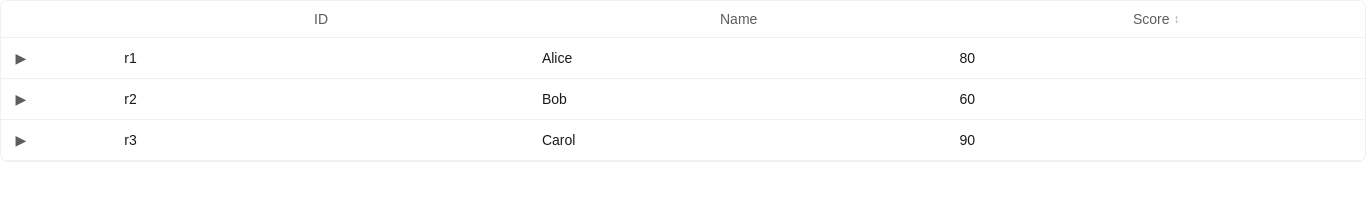
DataTable — expandable › renders expanded row content when row is expanded
expand first row
Click the button named "expand" at (21, 58), box [9, 46, 33, 70]
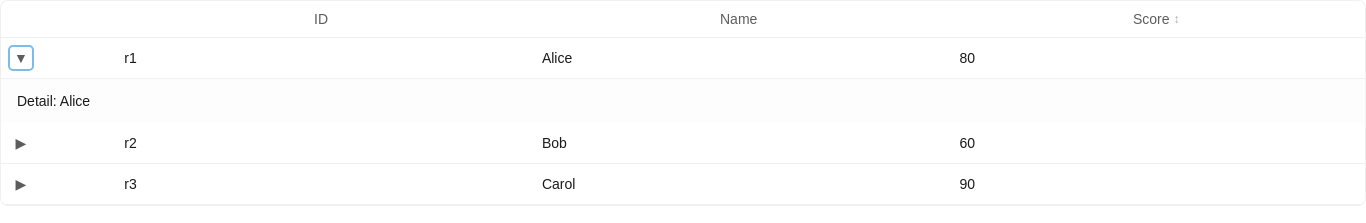
Expected: the text with test id "expanded" reads "Detail: Alice", [17, 93, 90, 109]
